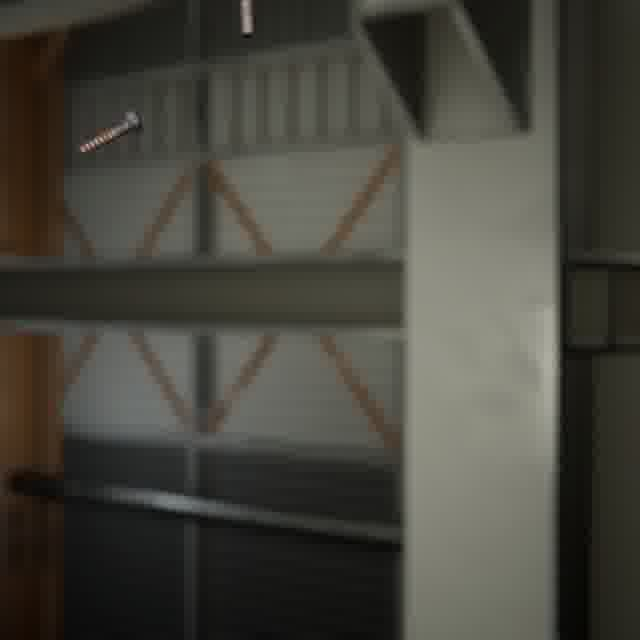bolt: (72, 104, 147, 160)
